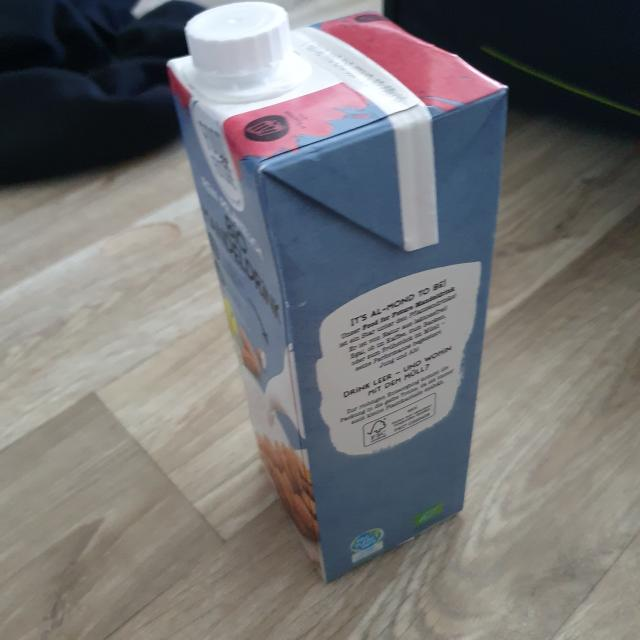PaperCardboard: (163, 0, 516, 565)
